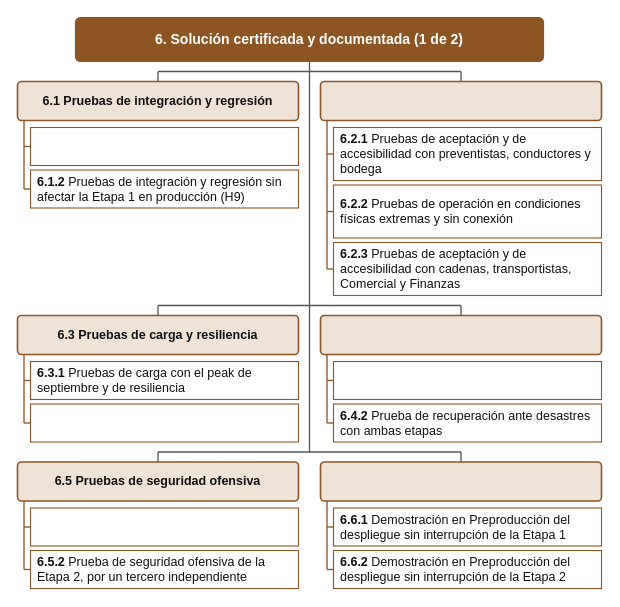
The diagram is 620 pixels wide and 607 high, and some of its shapes have lost their labels. The centre of each missing label's shape, as x and y in pixels:
"6.1.1 Pruebas de integración, regresión e idempotencia en QA (H4)" belongs at point (164, 146).
"6.2 Pruebas de aceptación, accesibilidad y condiciones físicas" belongs at point (460, 100).
"6.3.2 Pruebas de carga con ambas etapas activas y de resiliencia" belongs at point (164, 422).
"6.4 Pruebas de recuperación ante desastres" belongs at point (460, 334).
"6.4.1 Prueba de recuperación ante desastres con conmutación real" belongs at point (467, 380).
"6.5.1 Prueba de seguridad ofensiva de la Etapa 1, por un tercero independiente" belongs at point (164, 526).
"6.6 Despliegue sin interrupción demostrado" belongs at point (460, 481).
